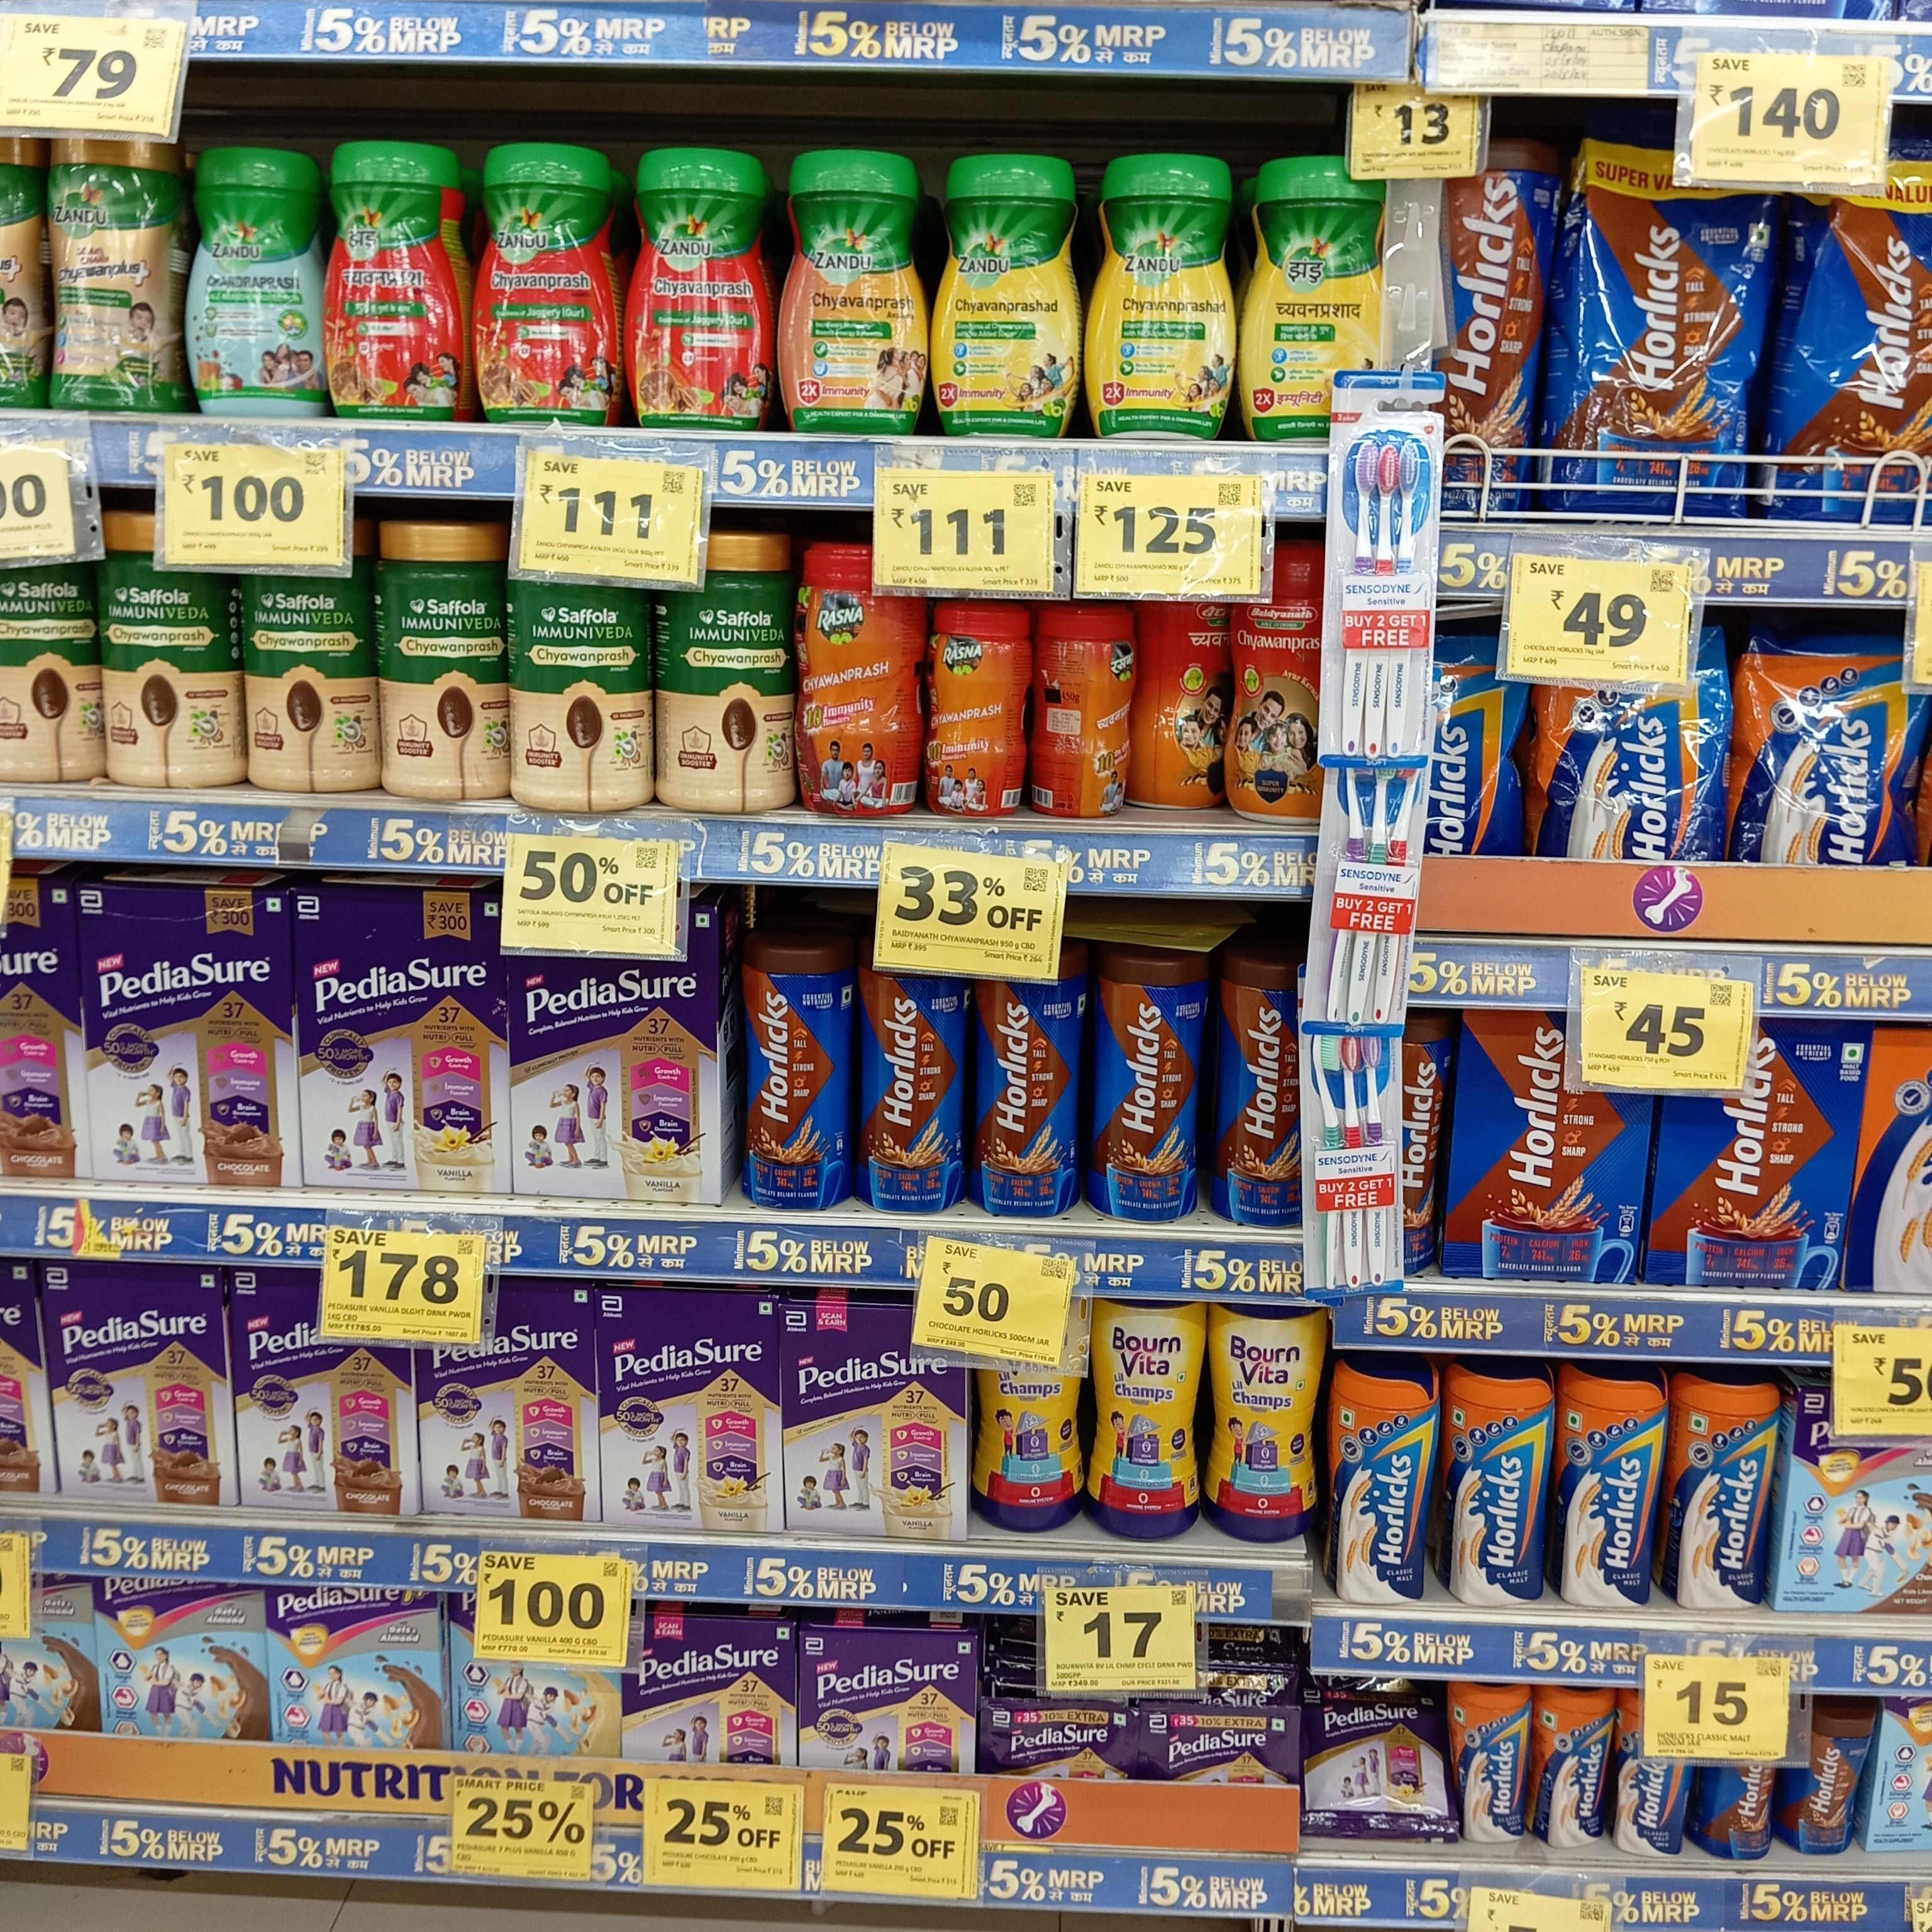BOURN_VITA_CHAMPS_500_G_JAR: (1093, 1295, 1200, 1541), (1212, 1302, 1318, 1541), (982, 1357, 1088, 1537)
HORLICK_CHOCOLATE_1_KG_JAR: (1430, 143, 1545, 511)
HORLICK_CHOCOLATE_200_G_JAR: (1789, 1709, 1868, 1858)
HORLICK_CHOCOLATE_500_G_JAR: (741, 943, 846, 1214), (1097, 961, 1200, 1224), (863, 970, 970, 1219), (985, 961, 1081, 1219), (1215, 957, 1302, 1231)
HORLICK_CHOCOLATE_500_G_PACK: (1660, 1021, 1858, 1290), (1456, 1008, 1647, 1281)
HORLICK_CHOCOLATE_750_G_POUCH: (1575, 147, 1755, 517), (1782, 165, 1932, 531)
HORLICK_CLASSIC_MALT_200_G_JAR: (1534, 1681, 1608, 1847), (1451, 1684, 1523, 1844), (1617, 1709, 1684, 1858)
HORLICK_CLASSIC_MALT_500_G_JAR: (1445, 1373, 1550, 1608), (1557, 1362, 1654, 1614), (1332, 1366, 1435, 1599), (1674, 1376, 1773, 1612)
HORLICK_CLASSIC_MALT_750_G_POUCH: (1741, 635, 1918, 865), (1536, 671, 1725, 865)
PEDIASURE_CHOCOLATE_500_G_PACK: (80, 886, 281, 1180), (46, 1260, 230, 1500), (237, 1263, 407, 1520), (421, 1286, 589, 1514)
PEDIASURE_VANILLA_500_G_PACK: (301, 888, 492, 1189), (510, 948, 713, 1205), (600, 1290, 780, 1530), (787, 1306, 964, 1543)
